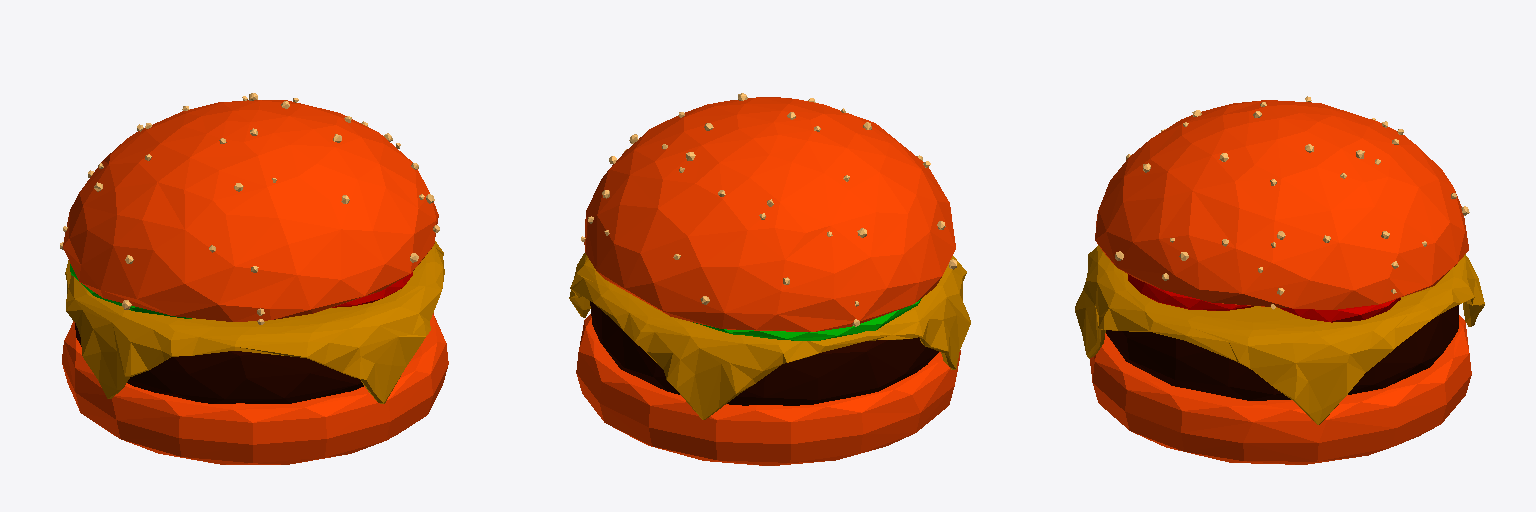
Rendered from burgir.obj.
3 views of the same model, side by side, from view 1: azimuth 30°, elevation 25°; view 2: azimuth 150°, elevation 25°; view 3: azimuth 270°, elevation 25° (orthographic).
Visible parts, largest first — view 1: Burger_Cylinder.005; view 2: Burger_Cylinder.005; view 3: Burger_Cylinder.005.
Boxes of the visible parts, <box> form: Burger_Cylinder.005: <box>60,93,448,464</box>; Burger_Cylinder.005: <box>569,93,970,465</box>; Burger_Cylinder.005: <box>1075,96,1484,464</box>.
Size of the model in its own units: 2.09 by 1.56 by 2.1.